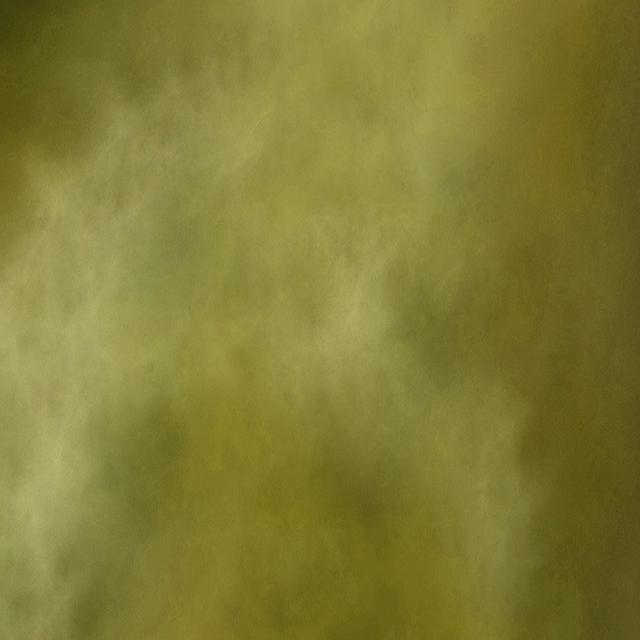Smoke: (59, 114, 556, 571)
